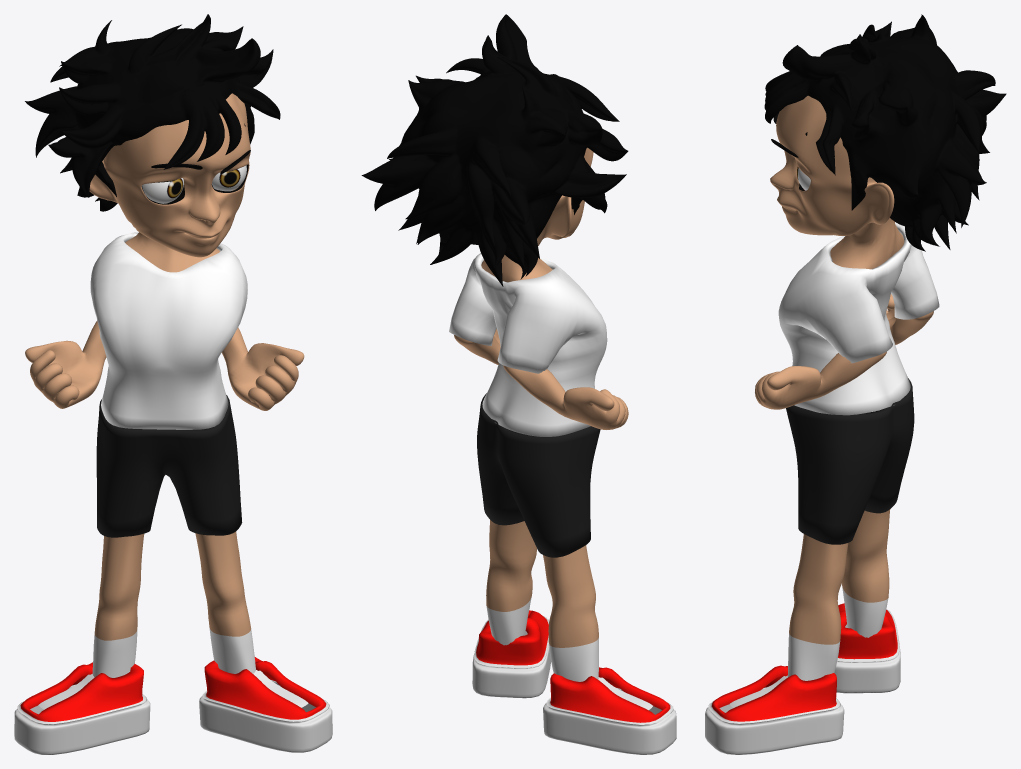
File: philipe.glb
3 views of the same model, side by side, from view 1: azimuth 30°, elevation 25°; view 2: azimuth 150°, elevation 25°; view 3: azimuth 270°, elevation 25° (orthographic). The views are drawn at different scales.
Parts seen in each view (by area): view 1: cabeça; view 2: cabeça; view 3: cabeça.
Part boxes in pixels (box(x1,y1,x2,y2)): cabeça: box(14, 14, 332, 754); cabeça: box(361, 14, 676, 754); cabeça: box(705, 14, 1006, 754).
Size of the model in its own units: 0.5286 by 1.34 by 0.527.
11 materials, 1 textured.
